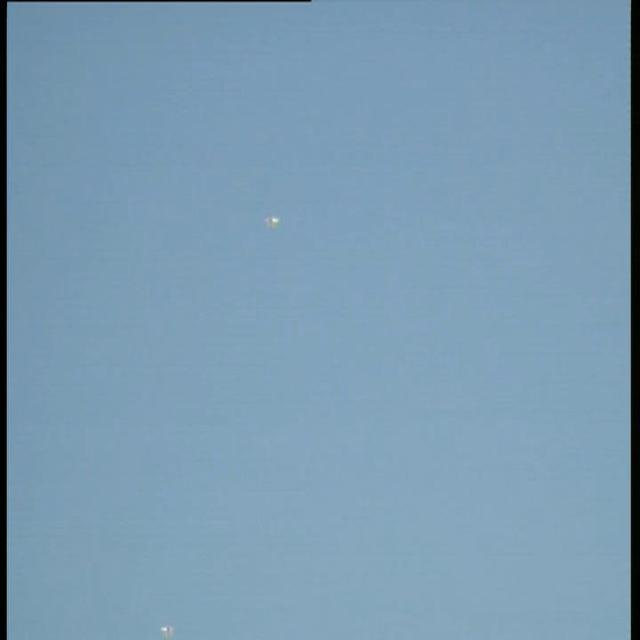drone: (152, 621, 182, 640), (262, 210, 286, 231)
